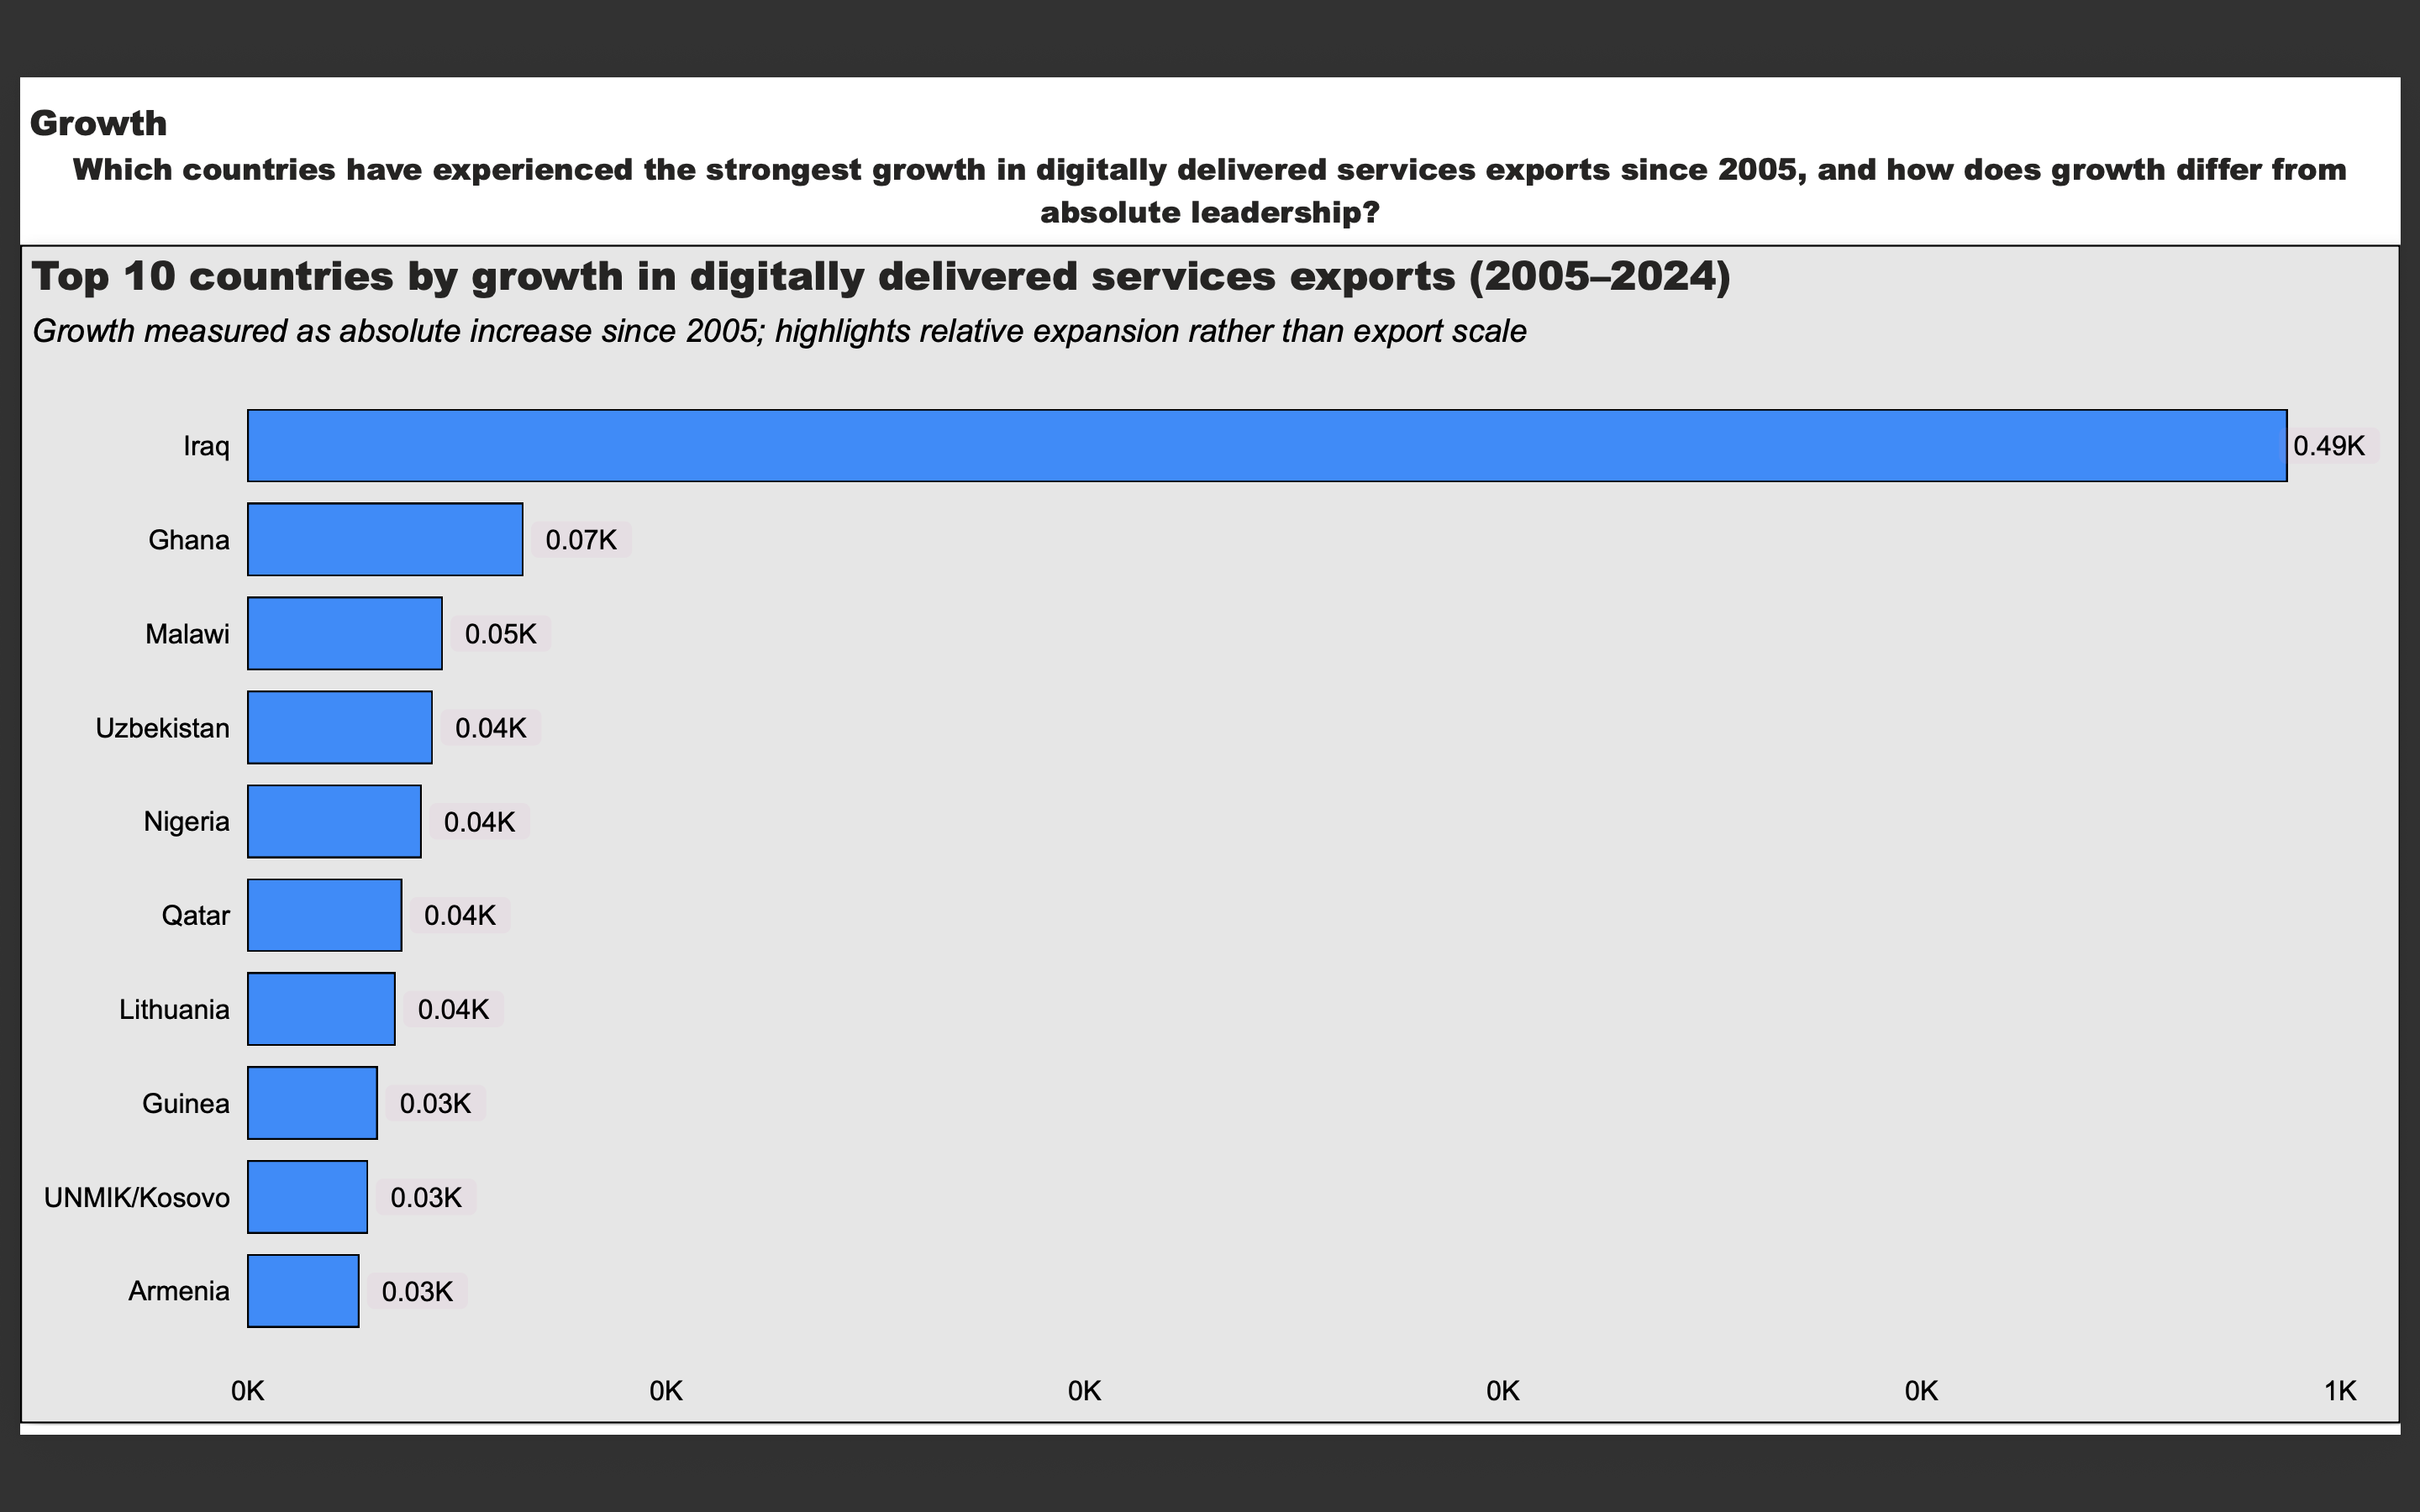

The page's visual inventory and layout, read from the dashboard file:
{"tool":"powerbi","page":{"name":"Page 2","canvas":[1280,720],"ordinal":1},"visuals":[{"type":"textbox","box":[0,0,1280,101.3],"z":0},{"type":"clusteredBarChart","title":"Top 10 countries by growth in digitally delivered services exports (2005–2024)","fields":{"Category":["dds_bi_country_year_final 1.country"],"Y":["Max(dds_bi_country_year_final 1.country_dds_exports_growth_2005_2024)"]},"box":[0,85.4,1280,634.5],"z":1}]}

Visuals, with their boxes on the page's 1280x720 design canvas (x1, y1, x2, y2). These are canvas units, not pixel positions in the 2420x1512 screenshot, which may show the page scaled, cropped or inside an application window:
textbox: 0/0/1280/101
"Top 10 countries by growth in digitally delivered services exports (2005–2024)" clusteredBarChart: 0/85/1280/720
